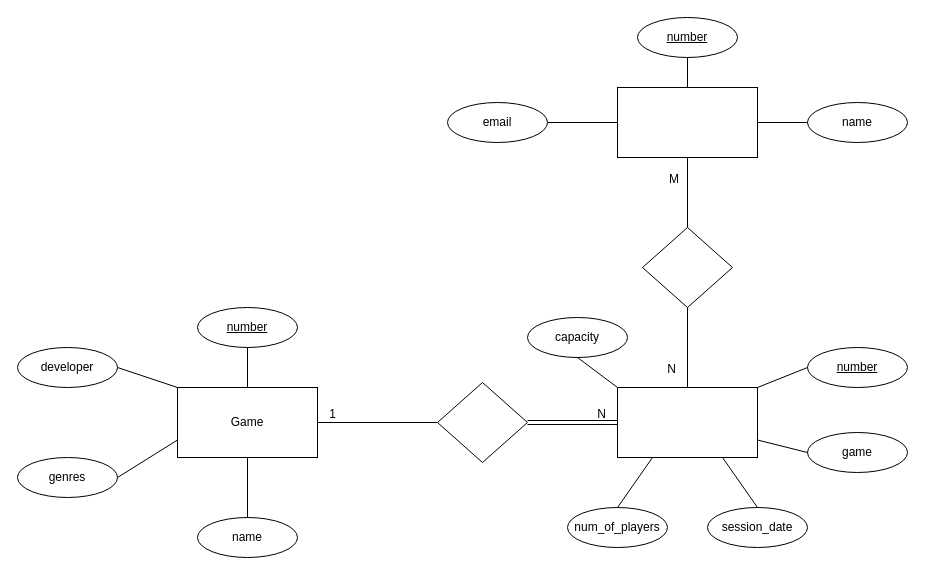
Some shapes in this 925 by 575 pixel diagram are drawn without their labels. Here are the shapes that lost their labels. From the top down, the centre of each, then its label:
(x=687, y=122): Player
(x=687, y=422): Session
